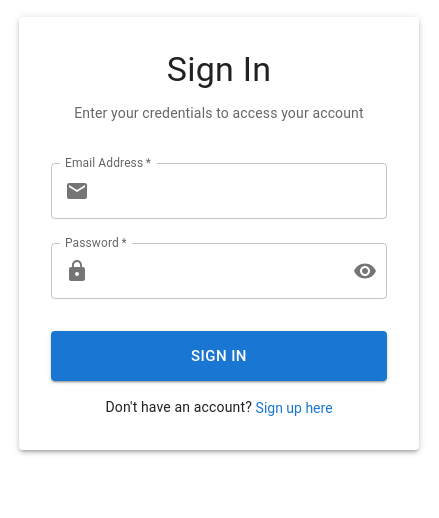
LoginForm › shows validation errors for empty fields
Click the button with test id "submit-button": point(219, 356) [51,331,387,381]
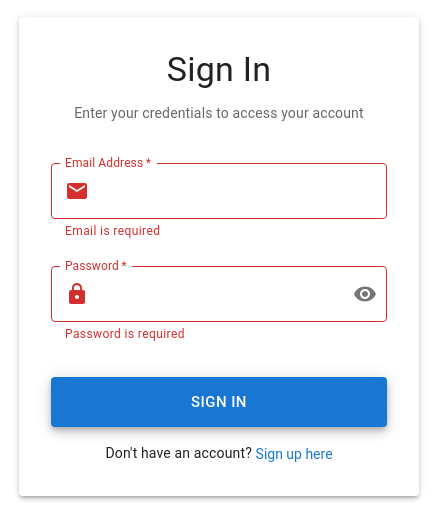
Result: the text "Email is required" is shown at [65,224,160,238]
Result: the text "Password is required" is shown at [65,327,185,341]
